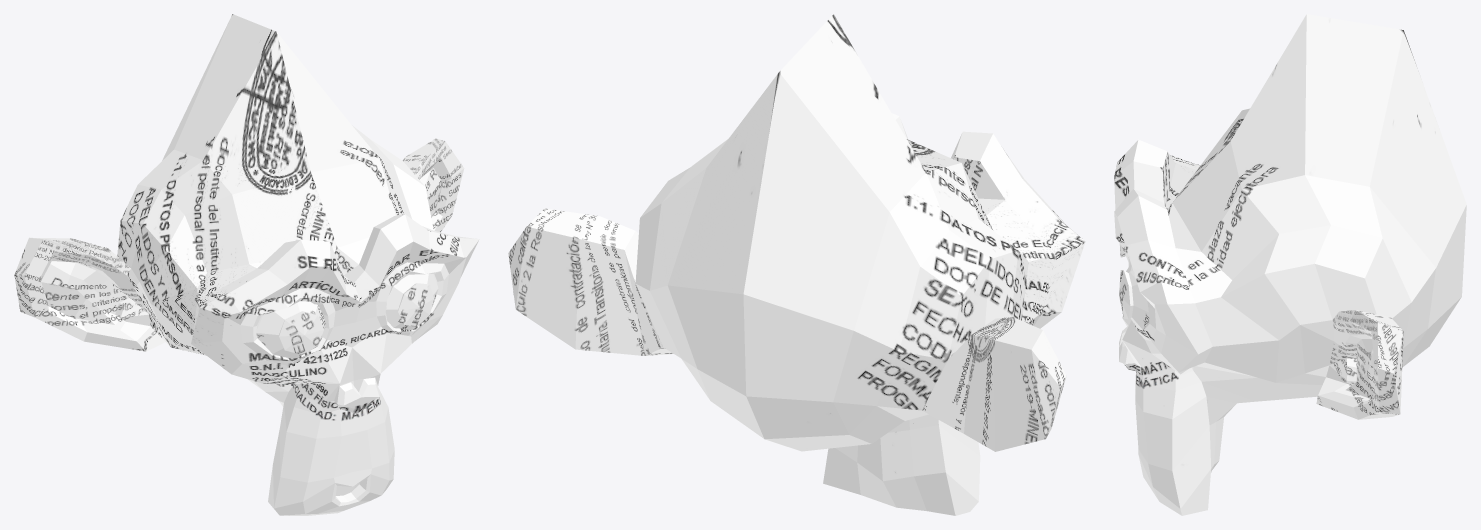
3 views of the same model, side by side, from view 1: azimuth 30°, elevation 25°; view 2: azimuth 150°, elevation 25°; view 3: azimuth 270°, elevation 25° (orthographic). The views are drawn at different scales.
Visible parts, largest first — view 1: Suzanne; view 2: Suzanne; view 3: Suzanne.
Part boxes in pixels (x1=…): Suzanne: x1=14, y1=14, x2=479, y2=515; Suzanne: x1=508, y1=14, x2=1085, y2=515; Suzanne: x1=1114, y1=14, x2=1466, y2=515.
Size of the model in its own units: 2.73 by 2.56 by 1.7.
Materials: 1 (1 with a texture image).
